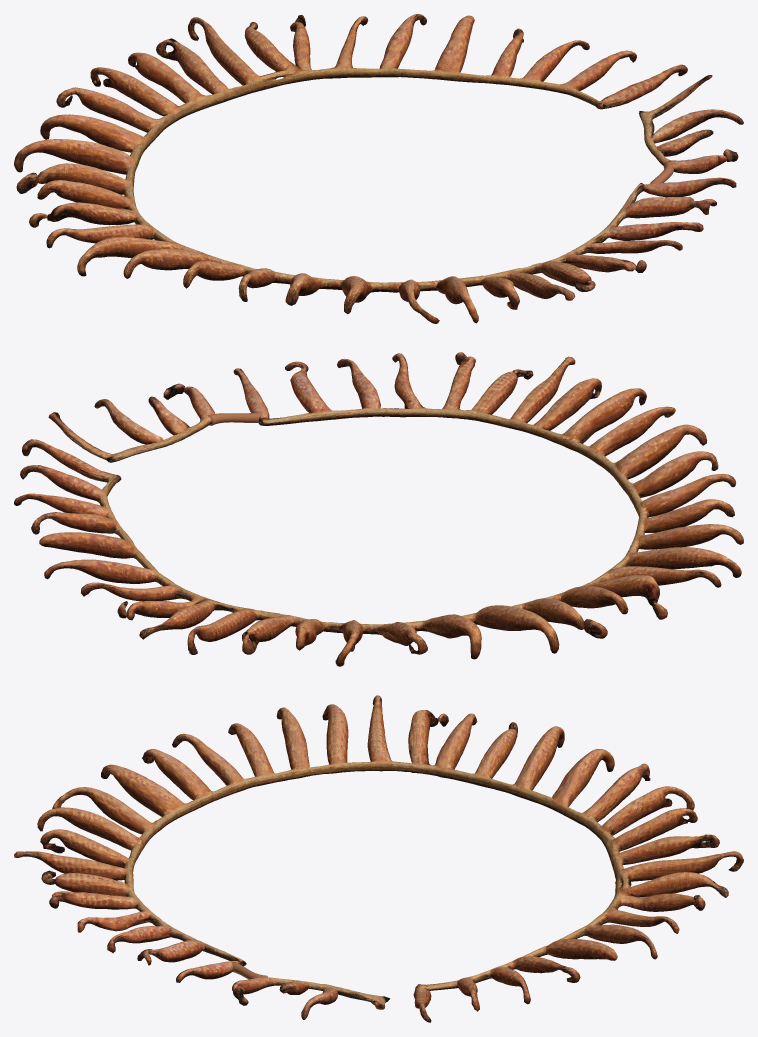
The picture shows the model from 3 angles, top to bottom: view 1: azimuth 30°, elevation 25°; view 2: azimuth 150°, elevation 25°; view 3: azimuth 270°, elevation 25°; orthographic projection. The views are drawn at different scales.
Visible parts, largest first — view 1: world; view 2: world; view 3: world.
Part boxes in pixels (left/top/right/bottom): world: left=14, top=14, right=743, bottom=323; world: left=14, top=352, right=743, bottom=666; world: left=14, top=695, right=743, bottom=1022.
Bounding box in the file's own units: 0.994 × 0.0598 × 0.9861.
Materials: 2 (1 with a texture image).
